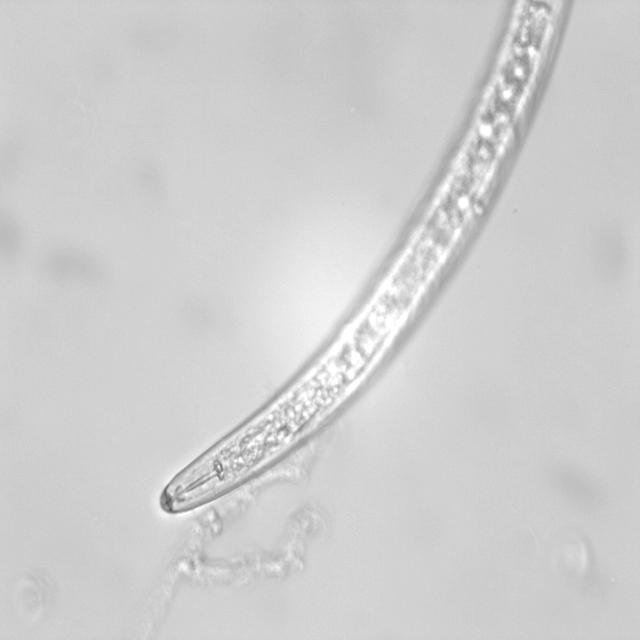Helicotylenchus: (155, 0, 572, 519)
